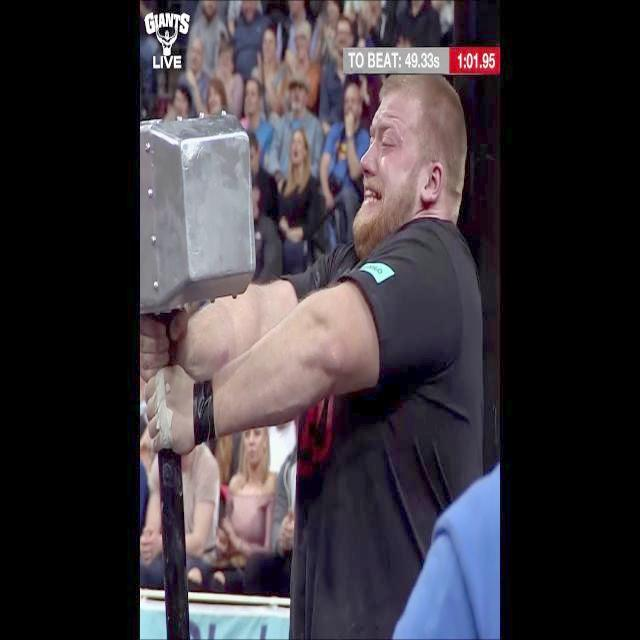hammer: (139, 90, 263, 640)
